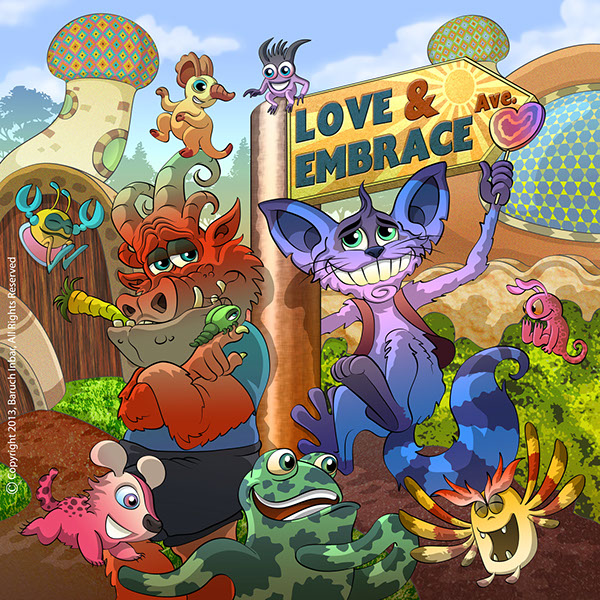bird: (6, 162, 111, 280)
cat: (259, 166, 546, 485)
